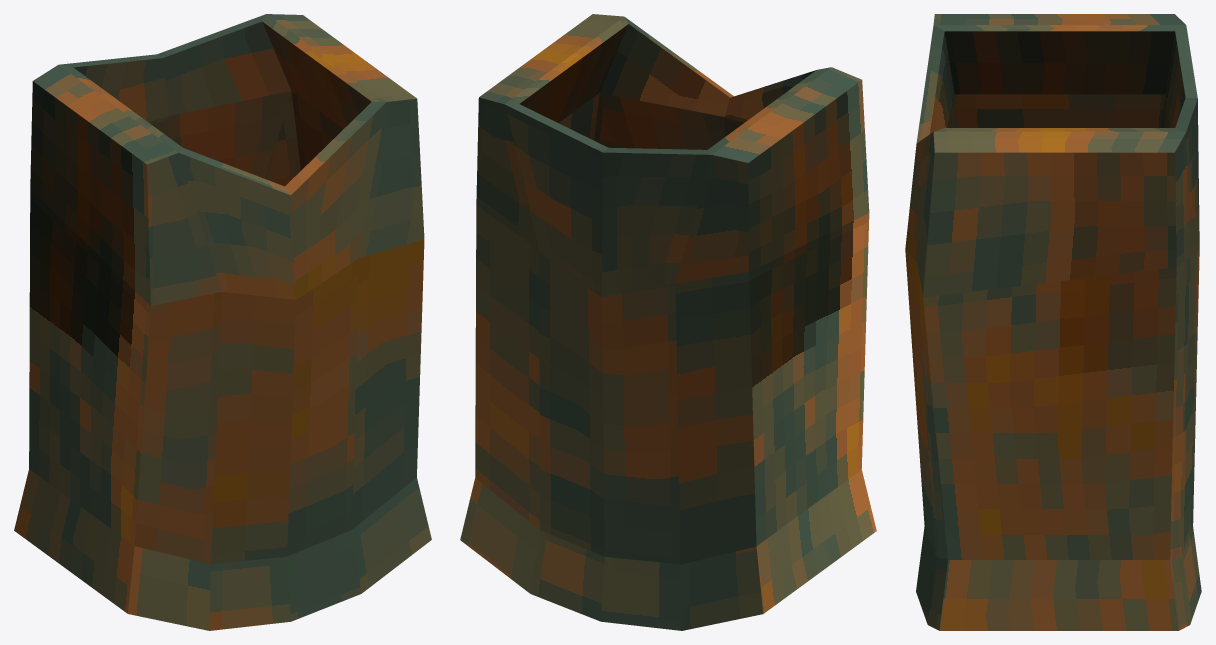
Rendered from rustedCopperChestplate.glb.
3 views of the same model, side by side, from view 1: azimuth 30°, elevation 25°; view 2: azimuth 150°, elevation 25°; view 3: azimuth 270°, elevation 25° (orthographic). The views are drawn at different scales.
Visible parts, largest first — view 1: rusted copper chestplate; view 2: rusted copper chestplate; view 3: rusted copper chestplate.
Boxes of the visible parts, x1,y1,x2,y2 form: rusted copper chestplate: (14,14,431,630); rusted copper chestplate: (460,14,876,630); rusted copper chestplate: (905,14,1201,630).
Bounding box in the file's own units: 0.3774 × 0.5793 × 0.3032.
1 material, 1 textured.
